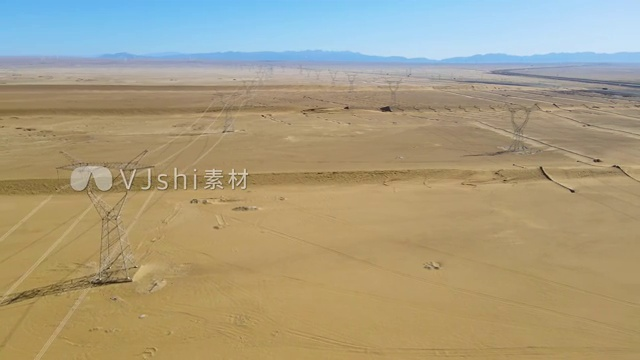tower_body: (53, 148, 156, 289), (501, 103, 536, 153)
tower_foot: (97, 244, 139, 284)
tower_head: (56, 149, 152, 217)
